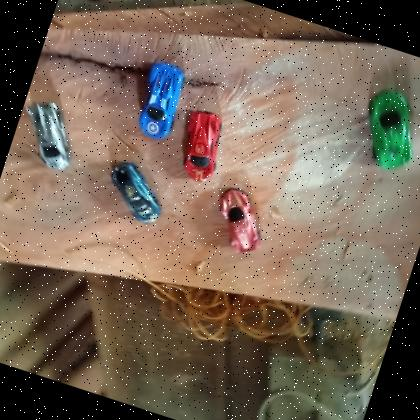Car: (348, 81, 420, 180), (9, 95, 88, 176), (128, 58, 192, 146), (167, 104, 233, 188), (98, 156, 174, 228), (205, 184, 274, 258)
